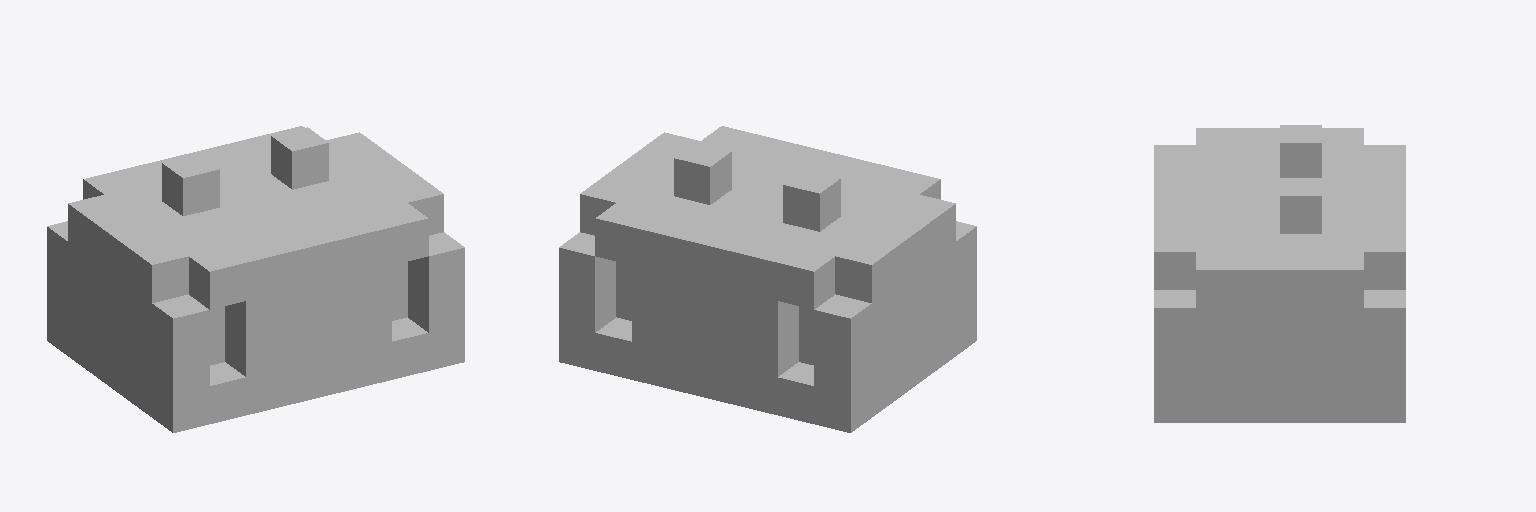
Rendered from Mine.obj.
The picture shows the model from 3 angles: view 1: azimuth 30°, elevation 25°; view 2: azimuth 150°, elevation 25°; view 3: azimuth 270°, elevation 25°; orthographic projection.
Parts seen in each view (by area): view 1: object 1; view 2: object 1; view 3: object 1.
Part boxes in pixels (x1,y1,x2,y2): object 1: (47, 126, 464, 432); object 1: (559, 126, 976, 432); object 1: (1154, 125, 1405, 422).
Size of the model in its own units: 0.8 by 0.5 by 0.6.